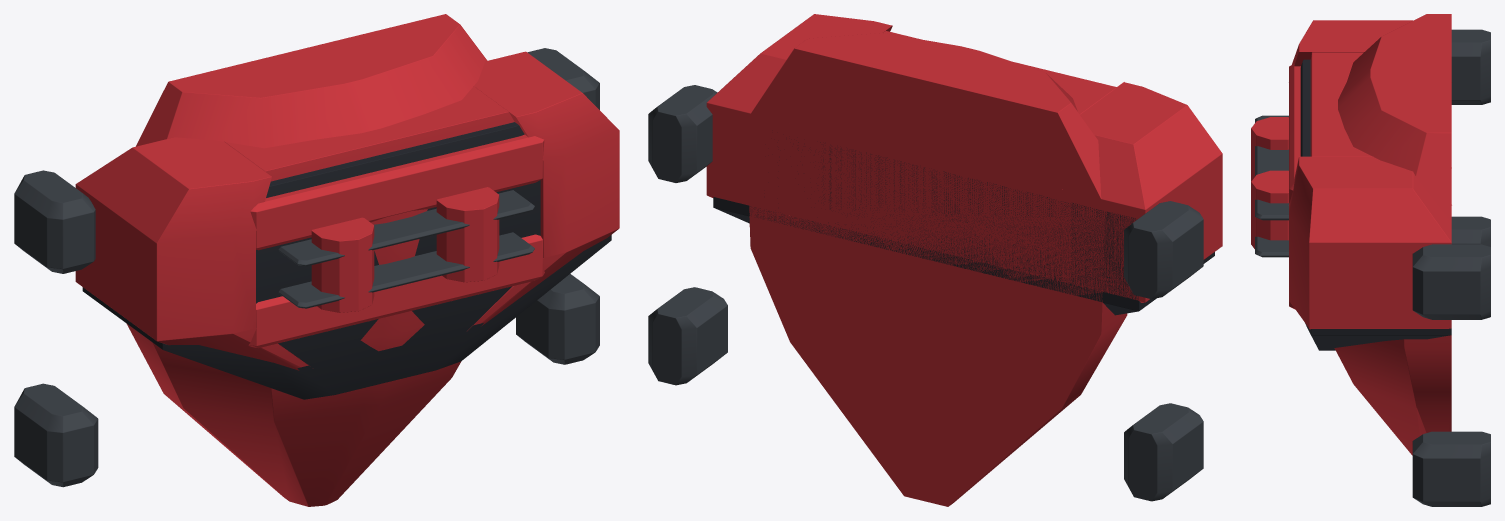
Rendered from LowerArmBack_Set08_Goliath.fbx.
3 renders of one model, left to right at view 1: azimuth 30°, elevation 25°; view 2: azimuth 150°, elevation 25°; view 3: azimuth 270°, elevation 25°, orthographic. The views are drawn at different scales.
Parts seen in each view (by area): view 1: LowerArmBack_Set08_Goliath; view 2: LowerArmBack_Set08_Goliath; view 3: LowerArmBack_Set08_Goliath.
Boxes of the visible parts, <box> form: LowerArmBack_Set08_Goliath: <box>14,14,619,506</box>; LowerArmBack_Set08_Goliath: <box>648,14,1222,506</box>; LowerArmBack_Set08_Goliath: <box>1251,14,1490,506</box>.
Bounding box in the file's own units: 0.43 × 0.33 × 0.184.
